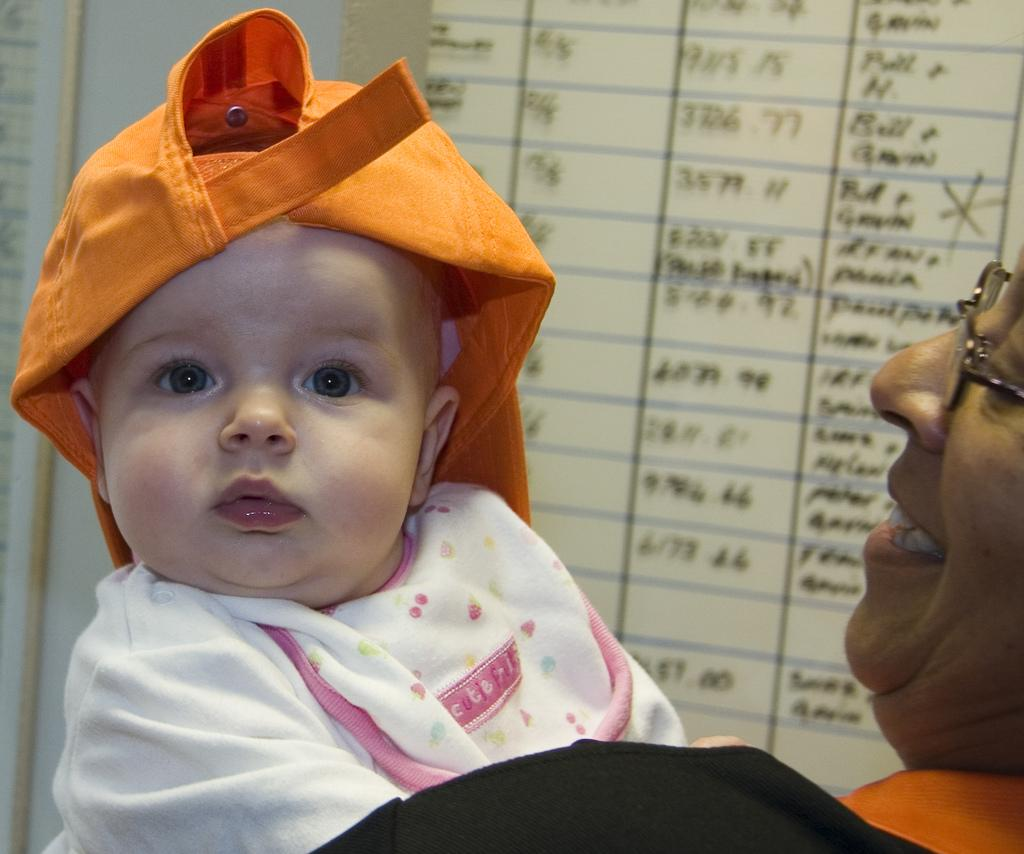Hat: (13, 12, 551, 570)
